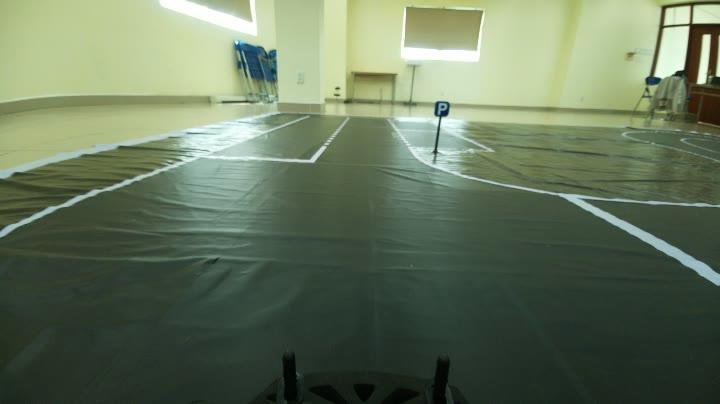parking: (428, 91, 464, 128)
